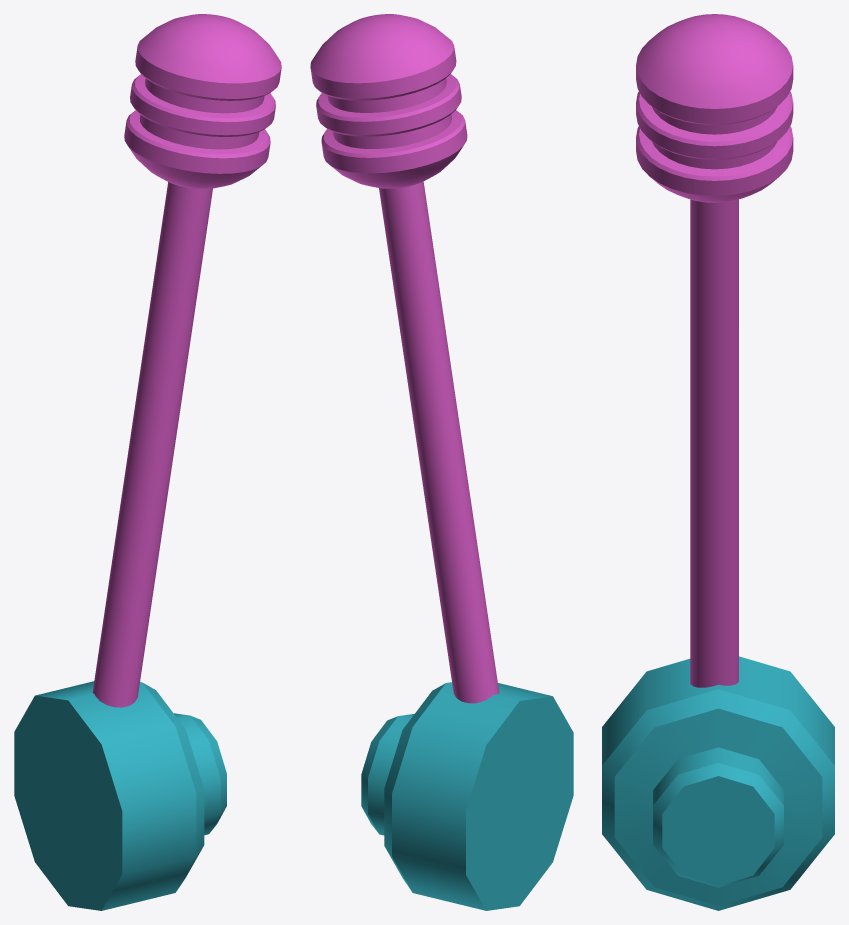
The model's file is slot-lever.glb.
The picture shows the model from 3 angles, left to right: view 1: azimuth 30°, elevation 25°; view 2: azimuth 150°, elevation 25°; view 3: azimuth 270°, elevation 25°; orthographic projection. The views are drawn at different scales.
Visible parts, largest first — view 1: lever_arm, lever_base; view 2: lever_arm, lever_base; view 3: lever_arm, lever_base.
Boxes of the visible parts, x1=… form: lever_arm: x1=92, y1=14, x2=281, y2=707; lever_base: x1=14, y1=681, x2=226, y2=910; lever_arm: x1=310, y1=14, x2=499, y2=703; lever_base: x1=361, y1=682, x2=573, y2=910; lever_arm: x1=636, y1=14, x2=793, y2=687; lever_base: x1=602, y1=656, x2=834, y2=910.
Bounding box in the file's own units: 0.1733 × 0.6992 × 0.1605.
